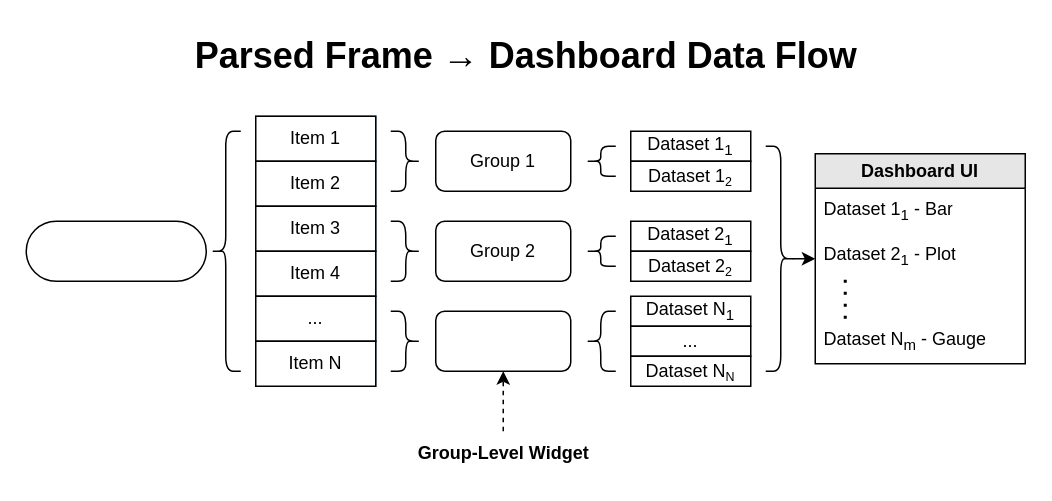
Some shapes in this 1052 by 501 pixel diagram are drawn without their labels. Here are the shapes that lost their labels. From the top down, the centre of each, then its label:
At (x=115, y=250): "Frame Items List".
At (x=502, y=340): "Group N".
